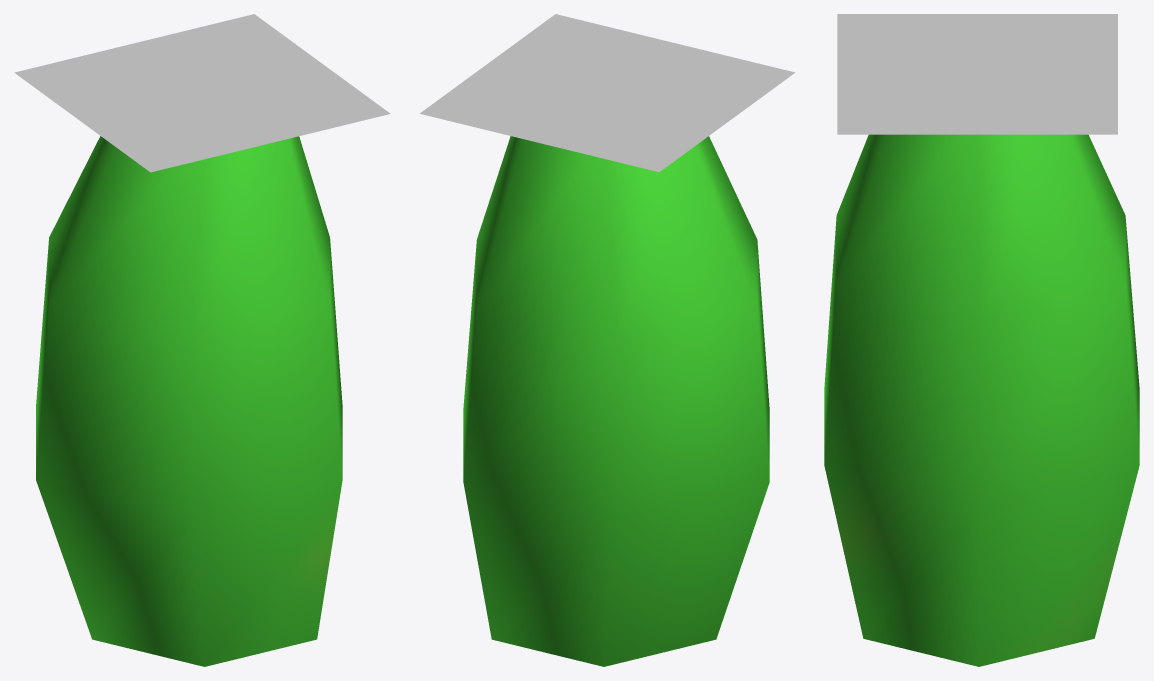
File: Cactus_04.fbx
The picture shows the model from 3 angles, left to right: view 1: azimuth 30°, elevation 25°; view 2: azimuth 150°, elevation 25°; view 3: azimuth 270°, elevation 25°; orthographic projection. The views are drawn at different scales.
Parts seen in each view (by area): view 1: Cactus_04, flower_04; view 2: Cactus_04, flower_04; view 3: Cactus_04, flower_04.
Boxes of the visible parts, bbox=[...] form: Cactus_04: bbox=[36, 136, 342, 666]; flower_04: bbox=[14, 14, 390, 172]; Cactus_04: bbox=[463, 136, 769, 666]; flower_04: bbox=[419, 14, 795, 172]; Cactus_04: bbox=[824, 134, 1139, 666]; flower_04: bbox=[837, 14, 1117, 134].
Size of the model in its own units: 33.37 by 54.1 by 28.9.
